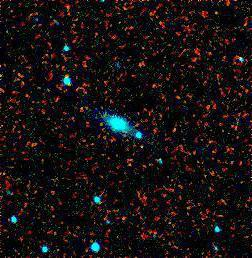star: (56, 0, 86, 25)
